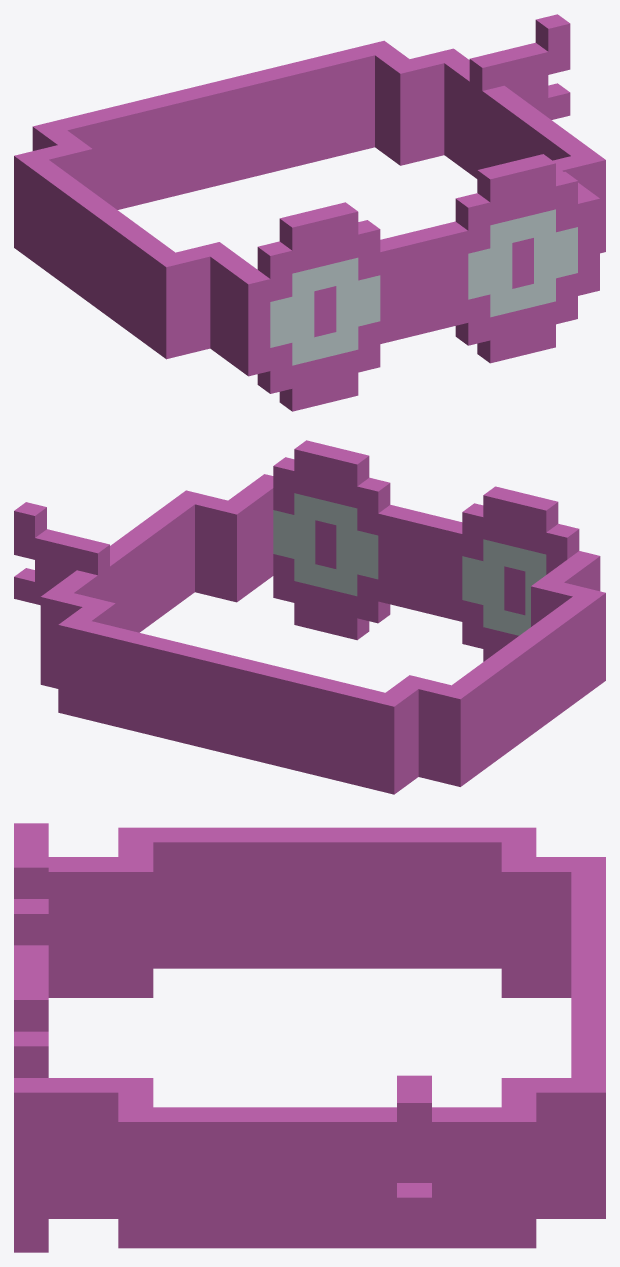
The model's file is aave hero.vox-2.fbx.
3 views of the same model, one above another, from view 1: azimuth 30°, elevation 25°; view 2: azimuth 150°, elevation 25°; view 3: azimuth 270°, elevation 25° (orthographic). The views are drawn at different scales.
Parts seen in each view (by area): view 1: aave hero.vox-2; view 2: aave hero.vox-2; view 3: aave hero.vox-2.
Boxes of the visible parts, box(x1,y1,x2,y2) form: aave hero.vox-2: box(14, 14, 605, 411); aave hero.vox-2: box(14, 440, 605, 794); aave hero.vox-2: box(14, 823, 605, 1252).
Size of the model in its own units: 2.3 by 0.8 by 1.7.
Materials: 1 (1 with a texture image).
